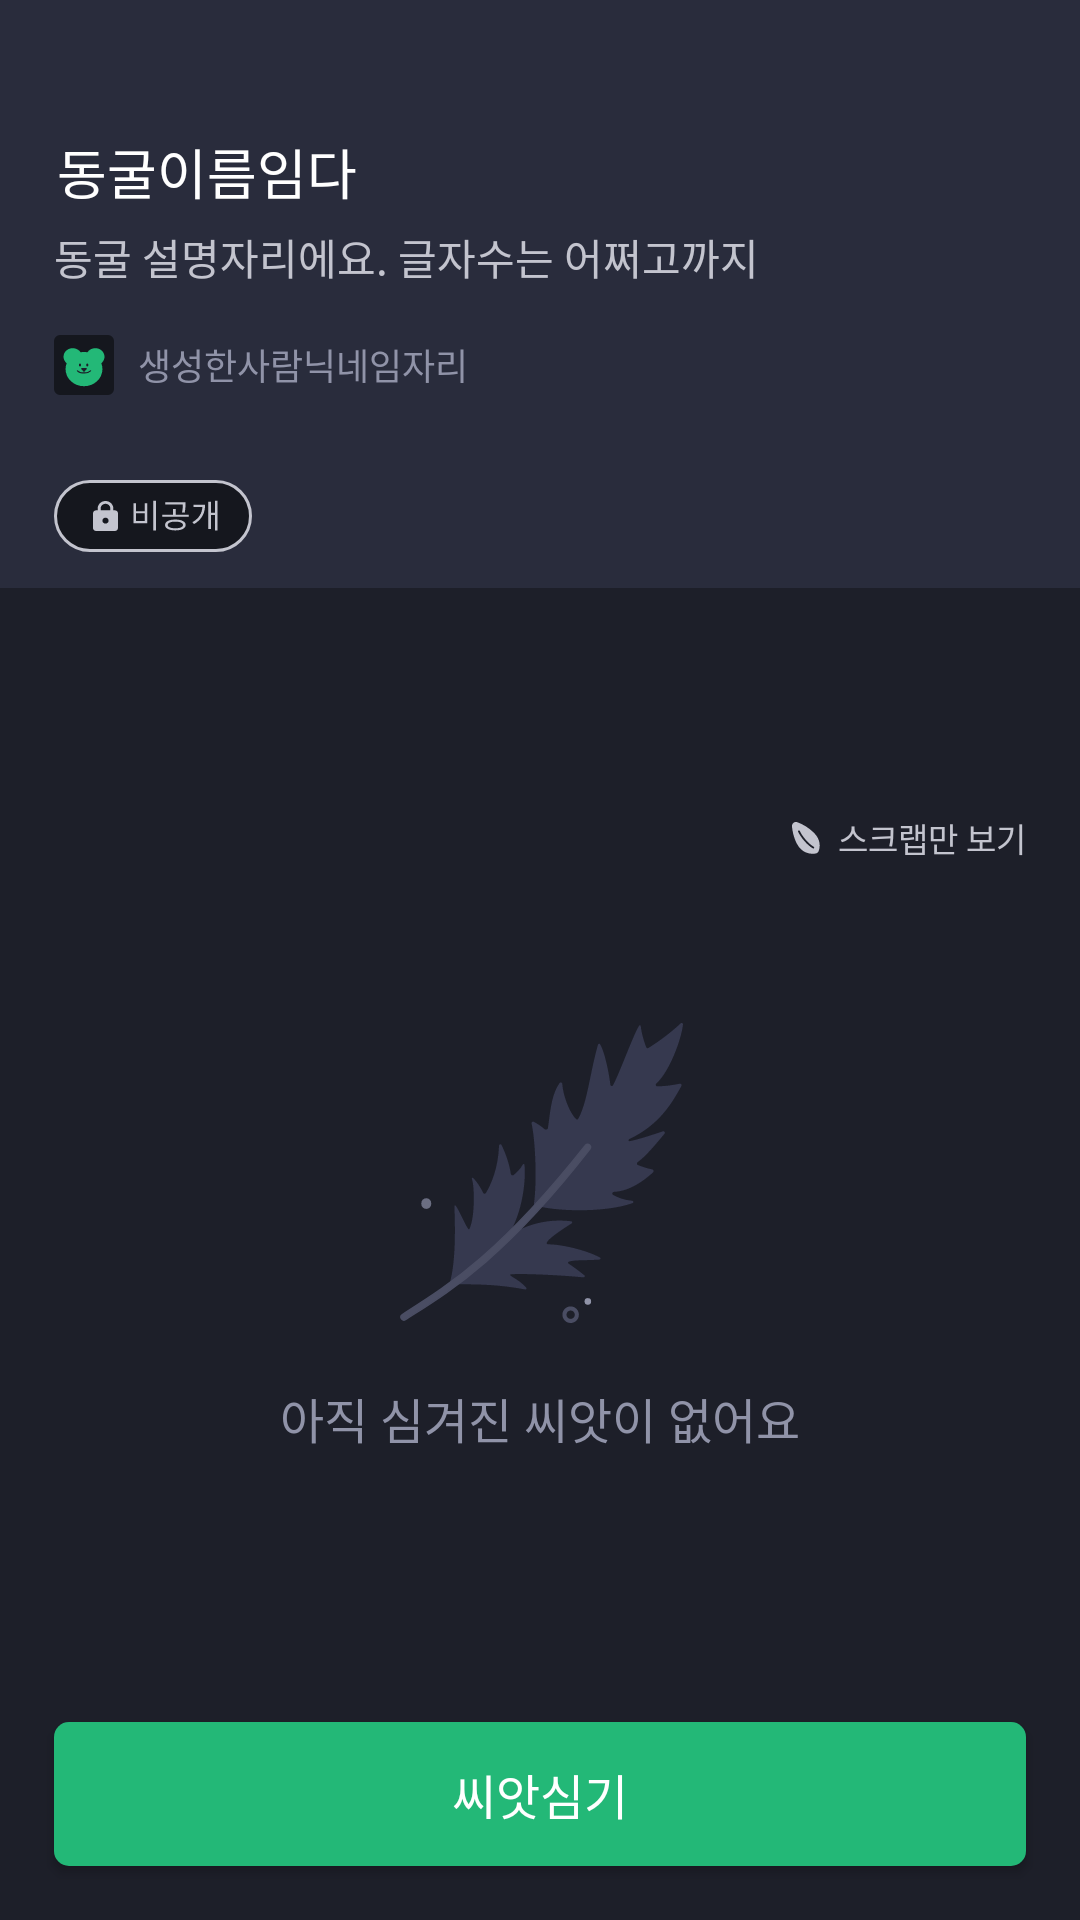

Icon click points for this 1080x1920 phone screenshot, format point (x, y):
profile: point (84, 365)
